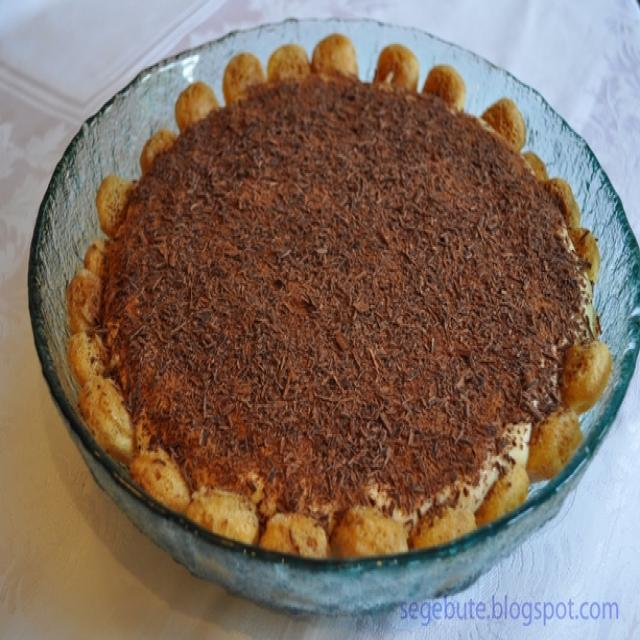蛋糕甜品: (47, 31, 619, 604)
